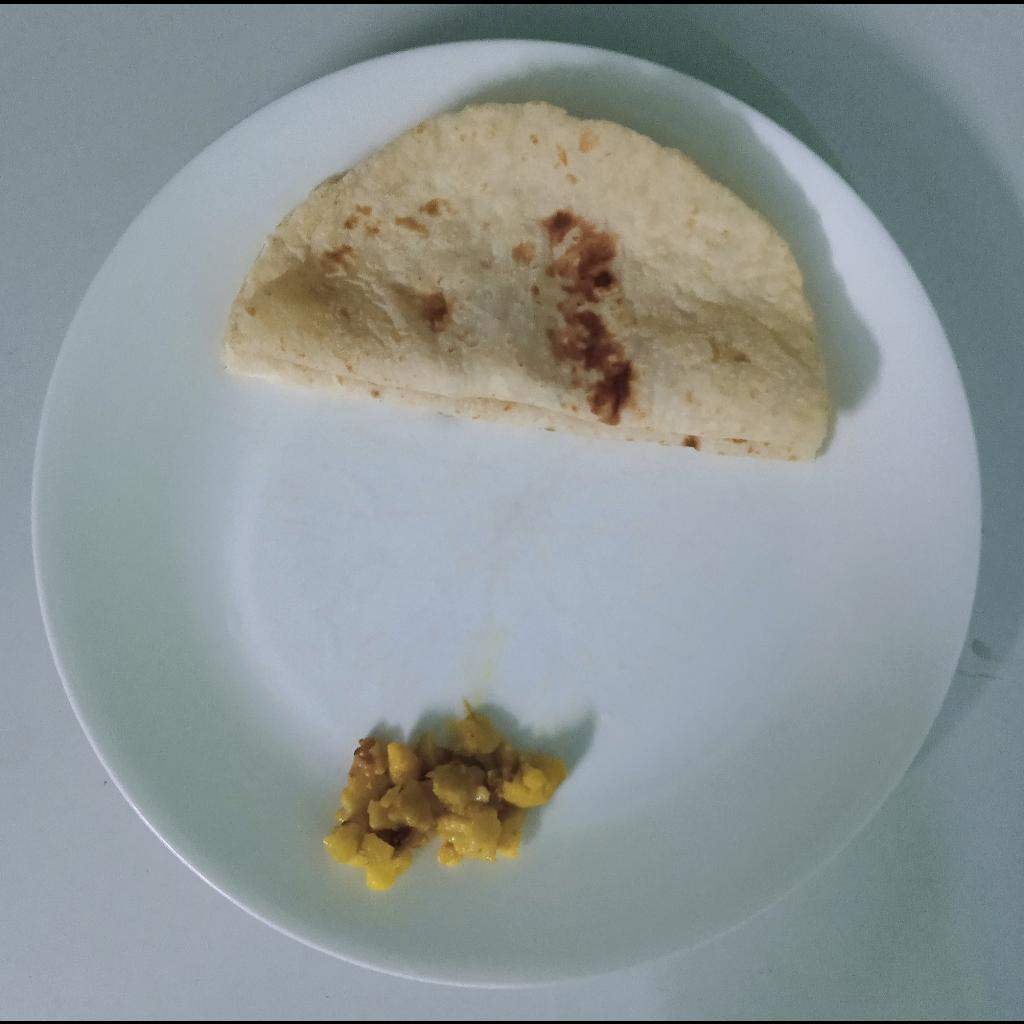kumra-vaji: (326, 716, 570, 894)
ruti: (220, 101, 832, 463)
